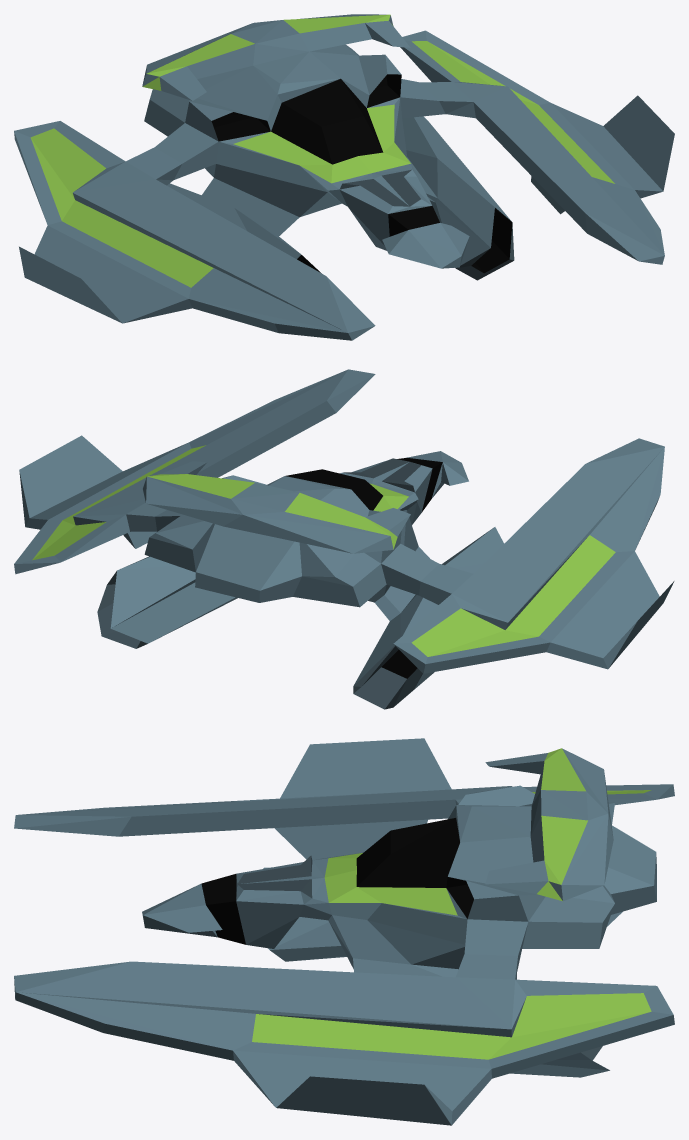
Rendered from spaceship3.obj.
The picture shows the model from 3 angles, top to bottom: view 1: azimuth 30°, elevation 25°; view 2: azimuth 150°, elevation 25°; view 3: azimuth 270°, elevation 25°; orthographic projection. The views are drawn at different scales.
Parts seen in each view (by area): view 1: Cube; view 2: Cube; view 3: Cube.
Boxes of the visible parts, x1=… form: Cube: x1=14, y1=14, x2=674, y2=340; Cube: x1=14, y1=369, x2=674, y2=709; Cube: x1=14, y1=738, x2=674, y2=1125.
Size of the model in its own units: 17.17 by 4.83 by 13.85.
